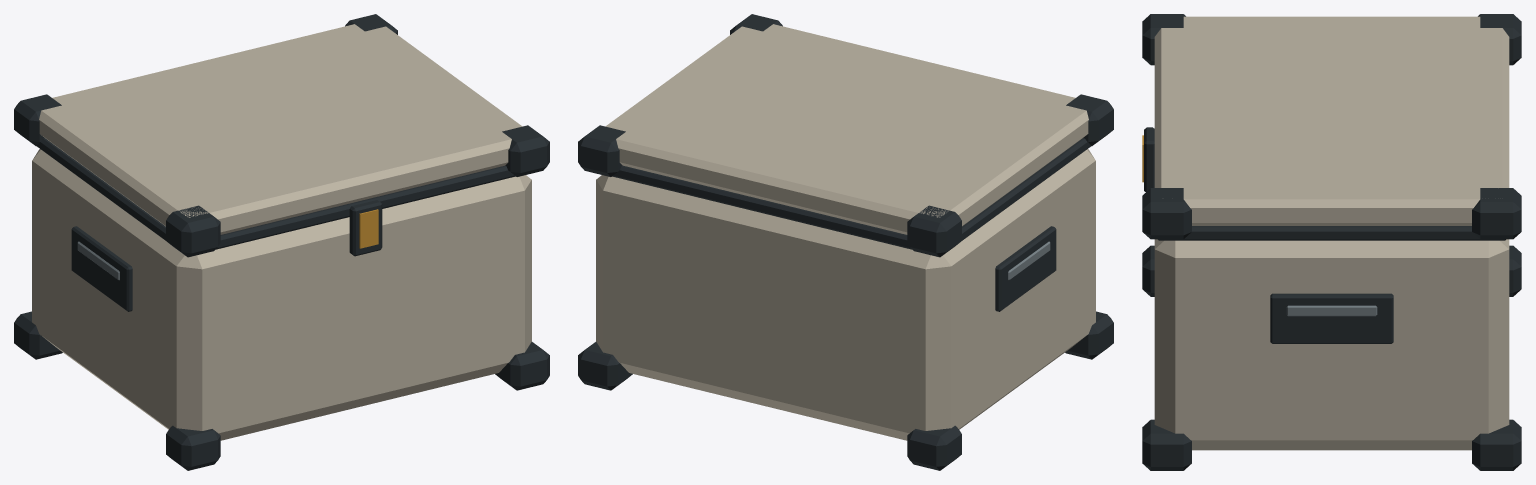
Rendered from crate_d0_lod1.meshopt.glb.
The picture shows the model from 3 angles, left to right: view 1: azimuth 30°, elevation 25°; view 2: azimuth 150°, elevation 25°; view 3: azimuth 270°, elevation 25°; orthographic projection. The views are drawn at different scales.
Parts seen in each view (by area): view 1: CRATE_SURFACE; view 2: CRATE_SURFACE; view 3: CRATE_SURFACE.
Boxes of the visible parts, x1=… form: CRATE_SURFACE: x1=14, y1=14, x2=549, y2=470; CRATE_SURFACE: x1=578, y1=14, x2=1113, y2=470; CRATE_SURFACE: x1=1142, y1=14, x2=1521, y2=470.
Bounding box in the file's own units: 0.56 × 0.36 × 0.46.
